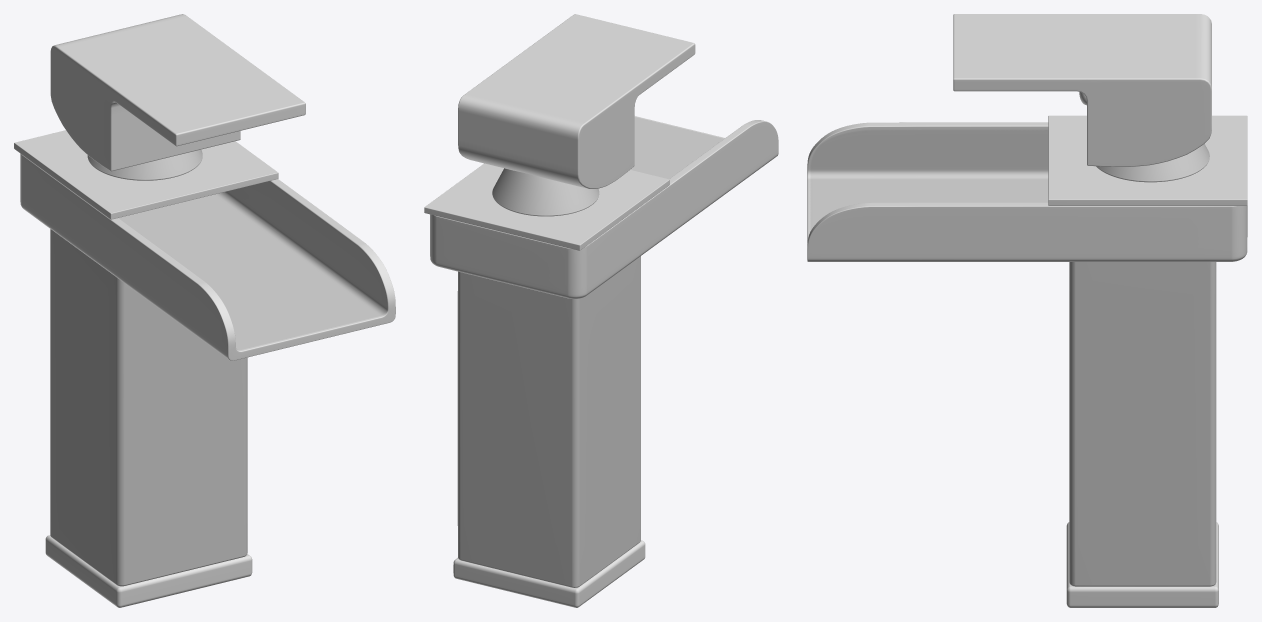
The model's file is tap_water_modern.glb.
3 views of the same model, side by side, from view 1: azimuth 30°, elevation 25°; view 2: azimuth 150°, elevation 25°; view 3: azimuth 270°, elevation 25° (orthographic). The views are drawn at different scales.
Parts seen in each view (by area): view 1: ASSET; view 2: ASSET; view 3: ASSET.
Part boxes in pixels (box(x1,y1,x2,y2)): ASSET: box(14, 14, 395, 607); ASSET: box(424, 14, 778, 607); ASSET: box(807, 14, 1247, 607).
Size of the model in its own units: 0.062 by 0.1819 by 0.137.
1 material, 1 textured.
